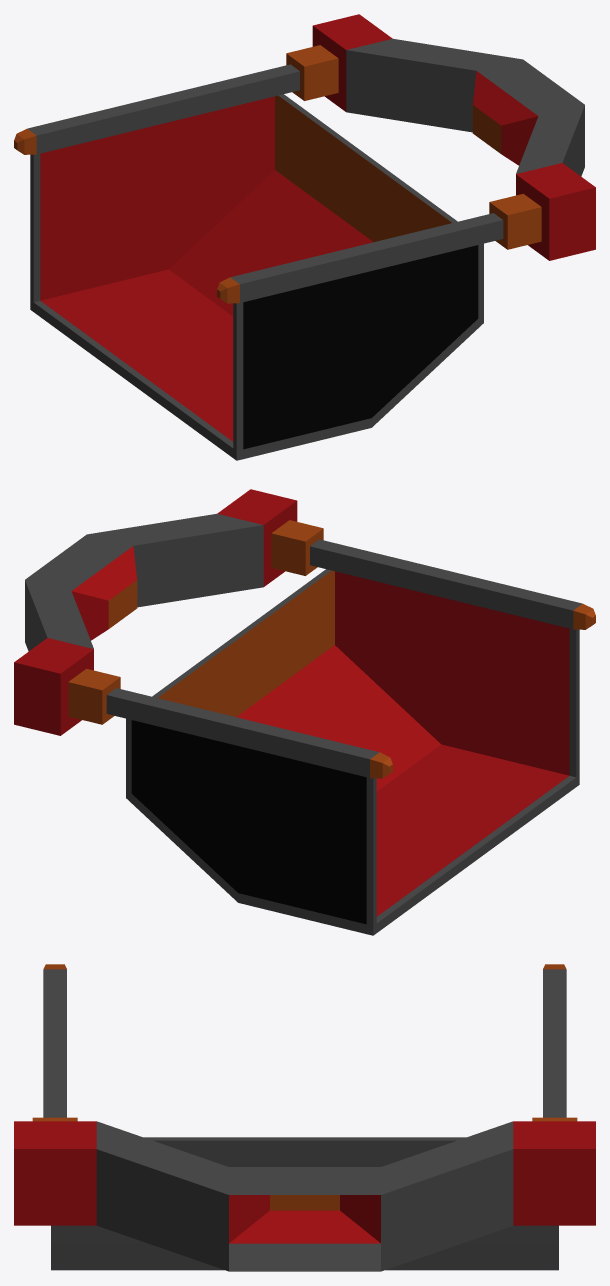
Rendered from collec.fbx.
3 views of the same model, one above another, from view 1: azimuth 30°, elevation 25°; view 2: azimuth 150°, elevation 25°; view 3: azimuth 270°, elevation 25° (orthographic). The views are drawn at different scales.
Parts seen in each view (by area): view 1: Collector; view 2: Collector; view 3: Collector.
Boxes of the visible parts, x1=… form: Collector: x1=14, y1=14, x2=595, y2=460; Collector: x1=14, y1=489, x2=595, y2=935; Collector: x1=14, y1=964, x2=595, y2=1271.
Bounding box in the file's own units: 469 × 206 × 440.
